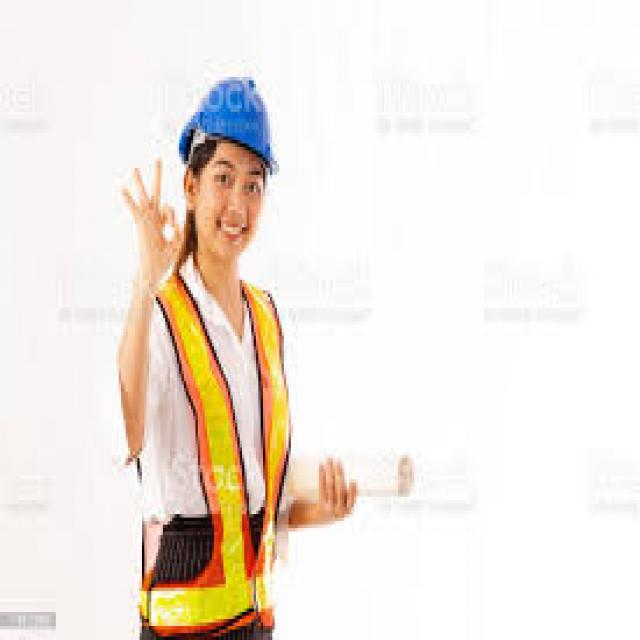Reflective-Jacket: (137, 266, 296, 633)
Safety-Helmet: (172, 63, 284, 178)
